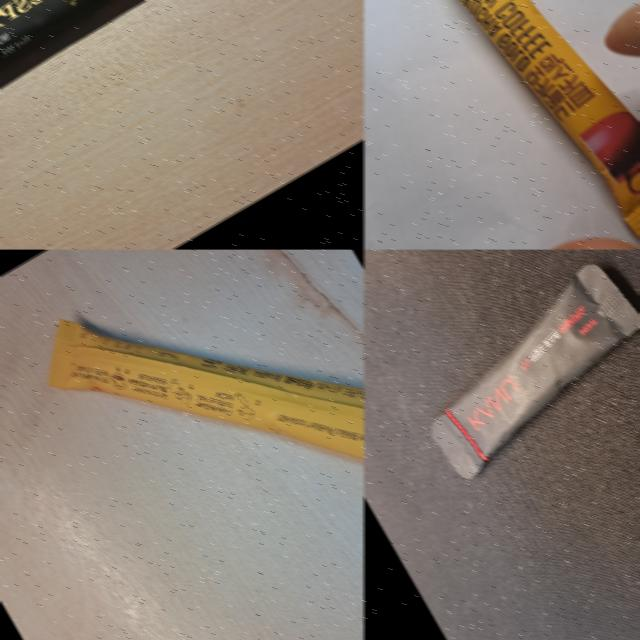KANU: (373, 249, 640, 514)
espresso_mini: (0, 0, 273, 211)
mix_coffee: (6, 249, 364, 640), (363, 0, 640, 249)
